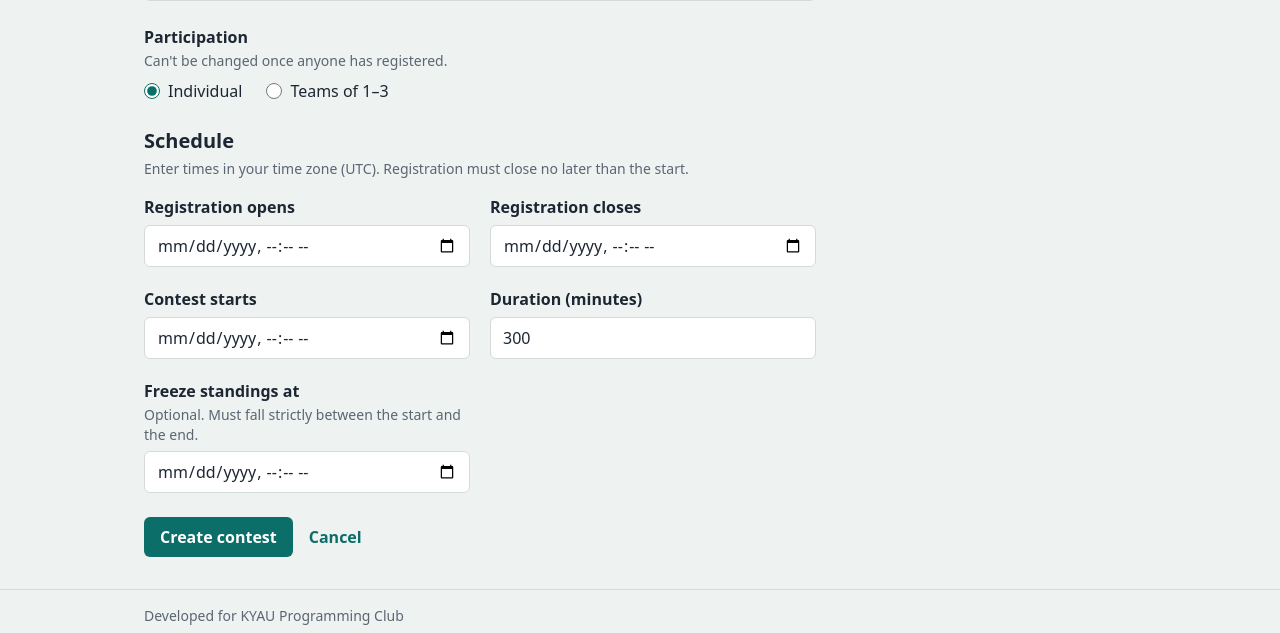
it: organizer contests › sends missing times as null so the server can name the field
(page scrolled)
What coordinates should you click on to do the following:
click the button "Create contest"
I would click on:
 (218, 537)
Its box is [144,517,293,557].
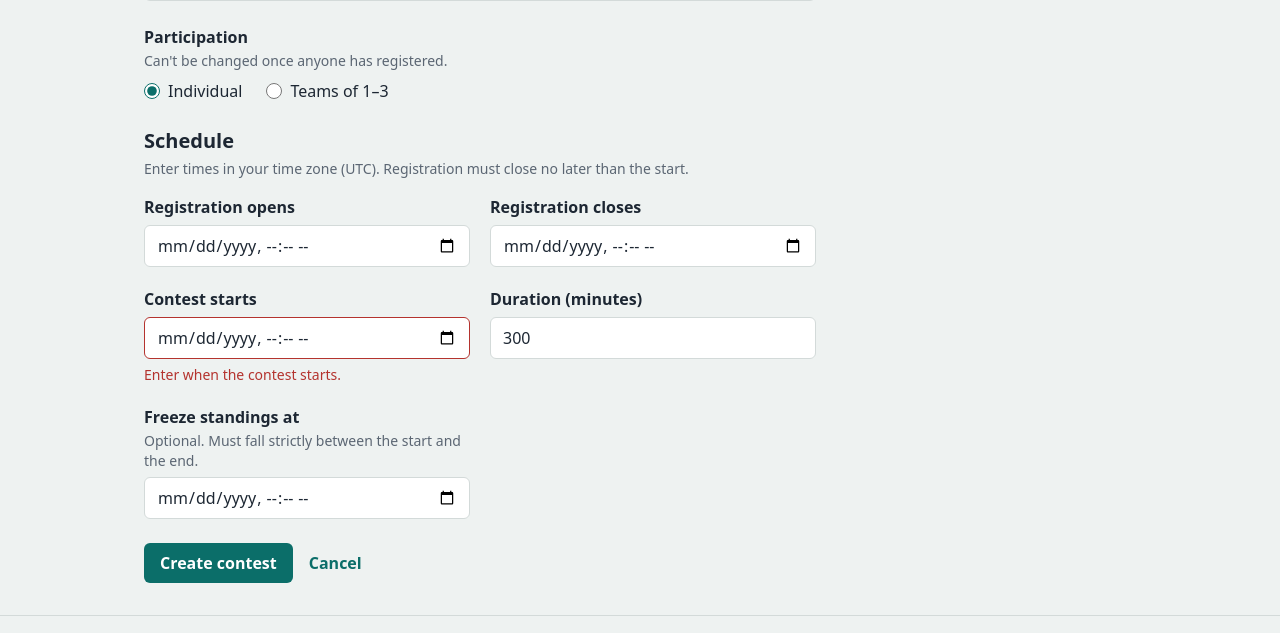
Expected: the list item "Enter when the contest starts." is shown, [144,365,341,384]
